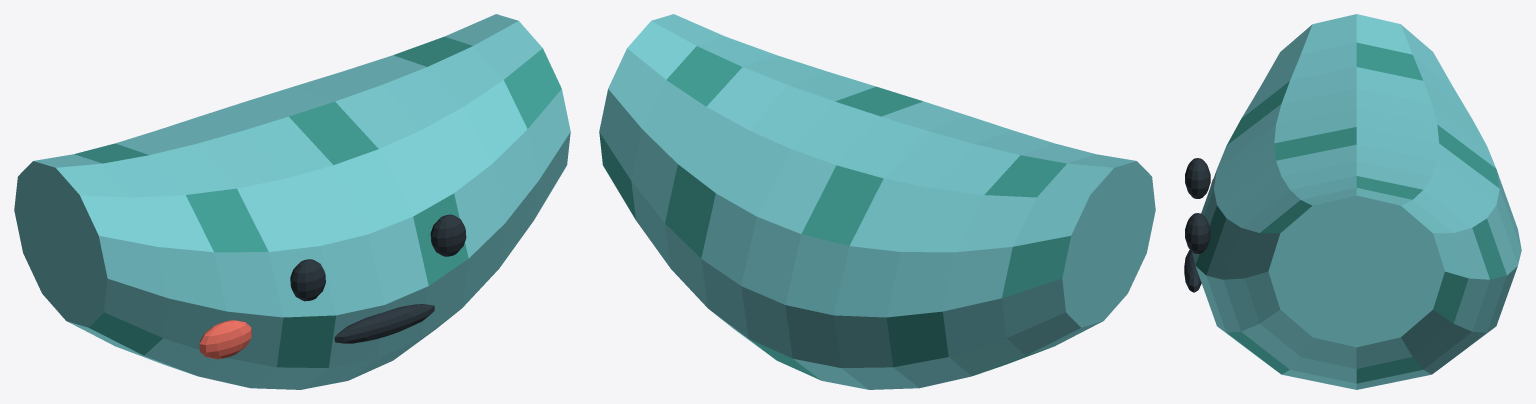
File: jumping_bean_v1.glb
3 renders of one model, left to right at view 1: azimuth 30°, elevation 25°; view 2: azimuth 150°, elevation 25°; view 3: azimuth 270°, elevation 25°, orthographic. The views are drawn at different scales.
Visible parts, largest first — view 1: Bean / faceted curved body, Bean / small smile, Bean / coral cheek, Bean / right eye, Bean / left eye; view 2: Bean / faceted curved body; view 3: Bean / faceted curved body, Bean / left eye, Bean / right eye, Bean / small smile.
Boxes of the visible parts, x1=… form: Bean / faceted curved body: x1=14, y1=14, x2=570, y2=389; Bean / small smile: x1=334, y1=304, x2=434, y2=343; Bean / coral cheek: x1=199, y1=320, x2=251, y2=359; Bean / right eye: x1=430, y1=214, x2=466, y2=256; Bean / left eye: x1=290, y1=259, x2=325, y2=301; Bean / faceted curved body: x1=599, y1=14, x2=1155, y2=389; Bean / faceted curved body: x1=1192, y1=14, x2=1521, y2=389; Bean / left eye: x1=1185, y1=158, x2=1210, y2=198; Bean / right eye: x1=1185, y1=213, x2=1210, y2=253; Bean / small smile: x1=1184, y1=250, x2=1201, y2=292.
Bounding box in the file's own units: 0.7162 × 0.4231 × 0.4677.
